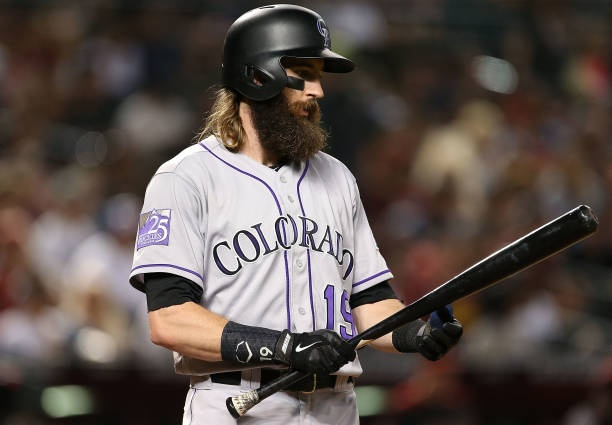bita: (231, 205, 593, 419)
